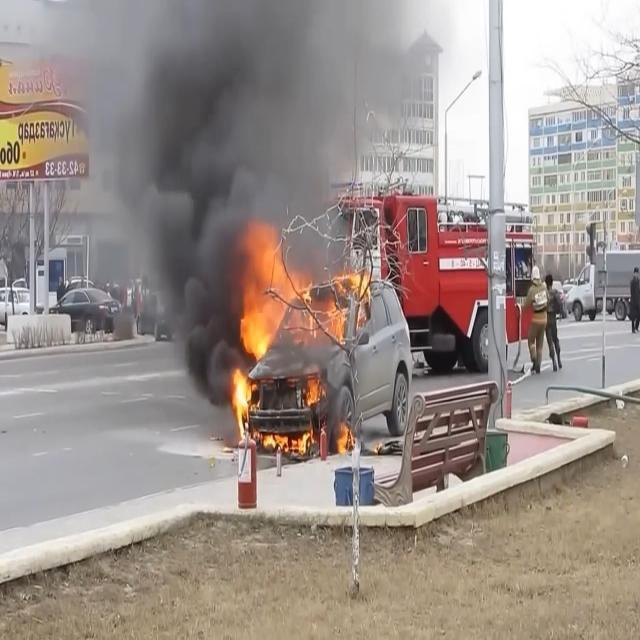fire: (222, 220, 374, 468)
